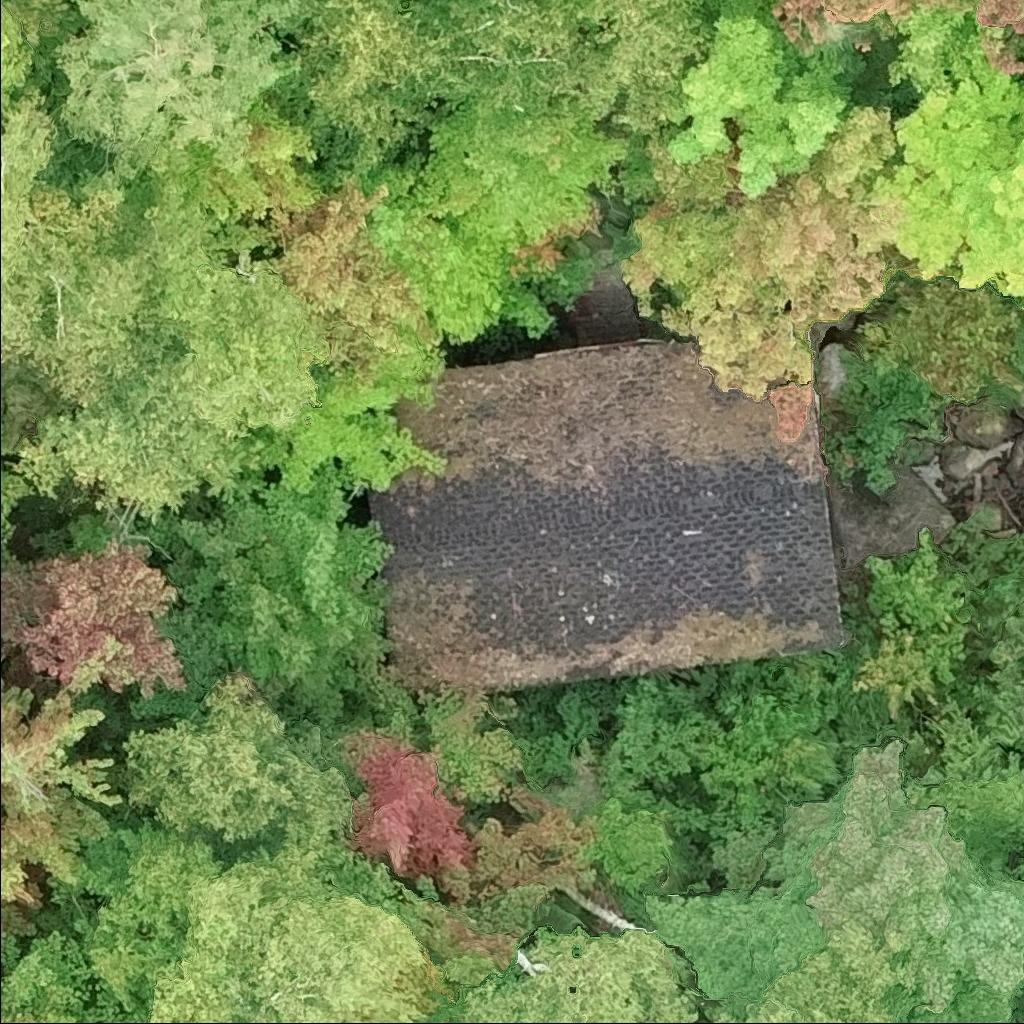crown: (9, 176, 327, 521), (74, 815, 447, 1023), (748, 735, 1023, 1009), (129, 459, 397, 724), (619, 150, 813, 398), (420, 69, 633, 288), (227, 177, 447, 385), (121, 671, 351, 859), (730, 102, 902, 331), (663, 0, 855, 197), (328, 153, 516, 349), (875, 60, 1023, 298), (275, 0, 476, 172), (242, 329, 448, 496), (0, 81, 115, 365), (0, 533, 187, 701), (0, 674, 146, 888), (146, 96, 326, 266), (320, 709, 474, 899), (18, 242, 173, 408), (432, 931, 698, 1023), (854, 269, 1023, 406), (439, 0, 619, 122), (575, 0, 717, 136), (770, 0, 1023, 76), (637, 881, 781, 1012), (710, 949, 908, 1023), (418, 686, 524, 806), (0, 929, 91, 1023), (985, 595, 1023, 757), (0, 834, 46, 941), (0, 0, 36, 132), (15, 0, 72, 38), (1013, 313, 1023, 377)
